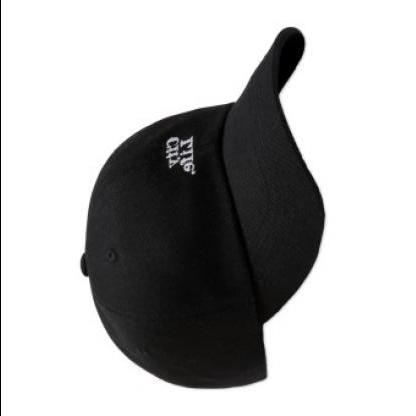cap: (72, 21, 327, 393)
